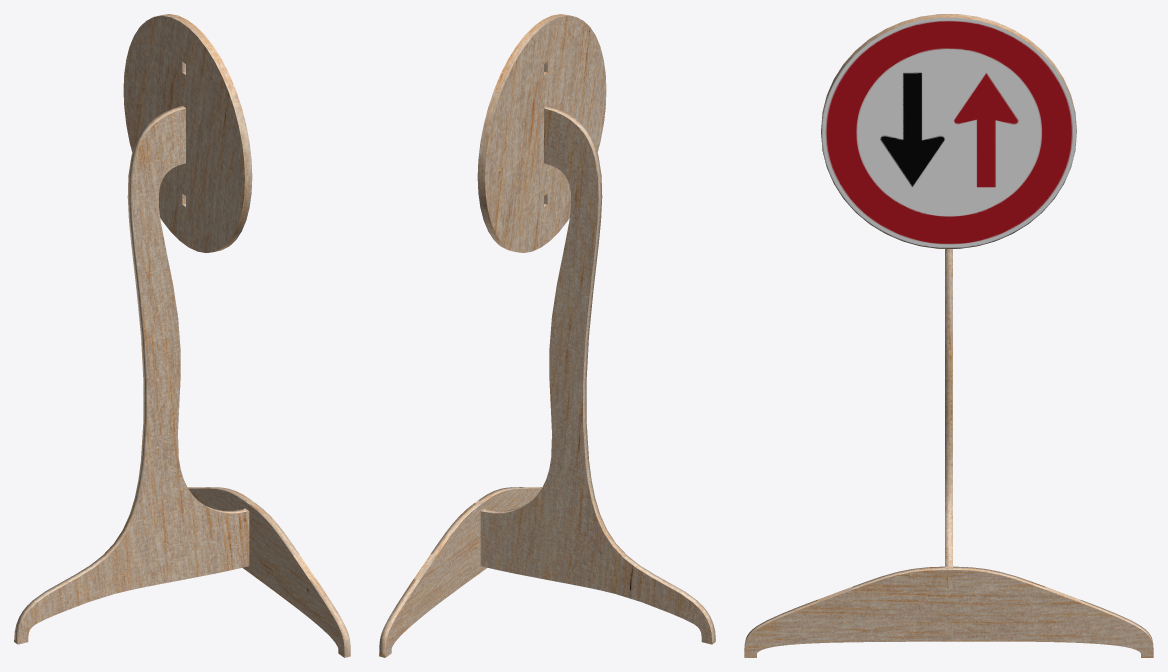
Rendered from Barred_area.dae.
The picture shows the model from 3 angles, left to right: view 1: azimuth 30°, elevation 25°; view 2: azimuth 150°, elevation 25°; view 3: azimuth 270°, elevation 25°; orthographic projection. The views are drawn at different scales.
Parts seen in each view (by area): view 1: Body1, Body1_2, Body1_1; view 2: Body1, Body1_2, Body1_1; view 3: Body1_2, Body1_1, Body1.
Boxes of the visible parts, x1,y1,x2,y2 form: Body1: (14, 105, 249, 644); Body1_2: (123, 14, 252, 252); Body1_1: (187, 487, 350, 657); Body1: (480, 105, 715, 644); Body1_2: (477, 14, 606, 252); Body1_1: (379, 487, 542, 657); Body1_2: (821, 14, 1076, 248); Body1_1: (744, 566, 1153, 657); Body1: (945, 249, 952, 634).
Bounding box in the file's own units: 113 × 160 × 262.
Materials: 2 (2 with a texture image).
